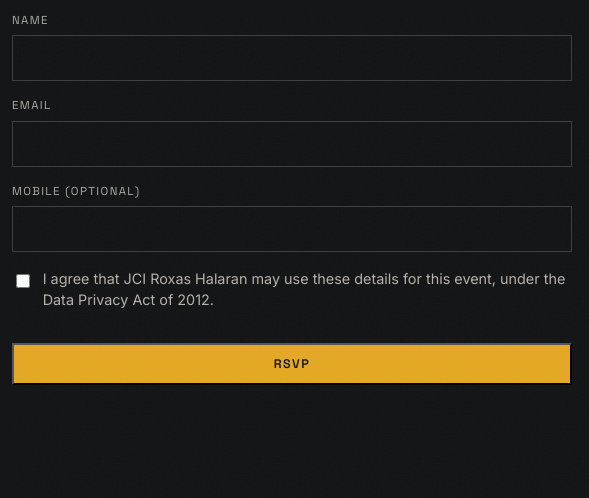
Test case: forms with Turnstile on › get a fresh token after a failed submit so the retry can pass
In the field labelled "Name": (292, 58) [12,35,572,81], type "Ana Cruz"
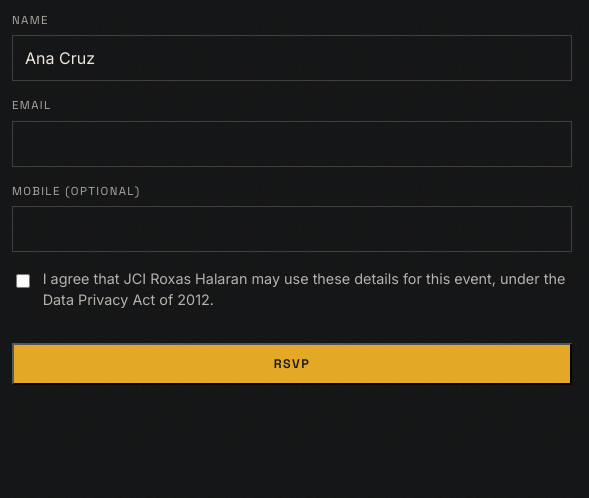
In the field labelled "Email": (292, 144) [12,120,572,166], type "a@x.ph"
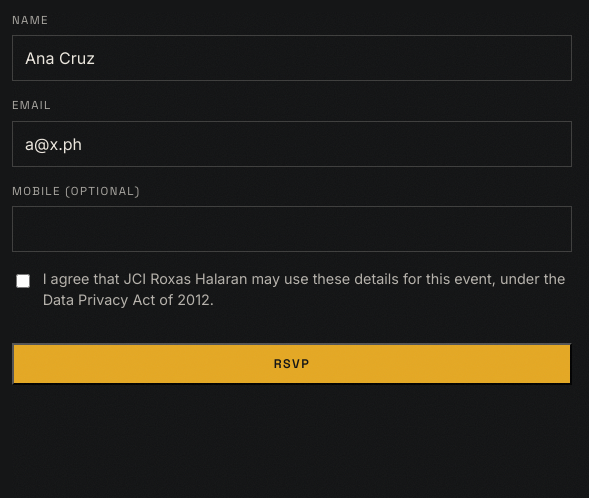
Click the checkbox: (23, 281) [16,272,30,290]
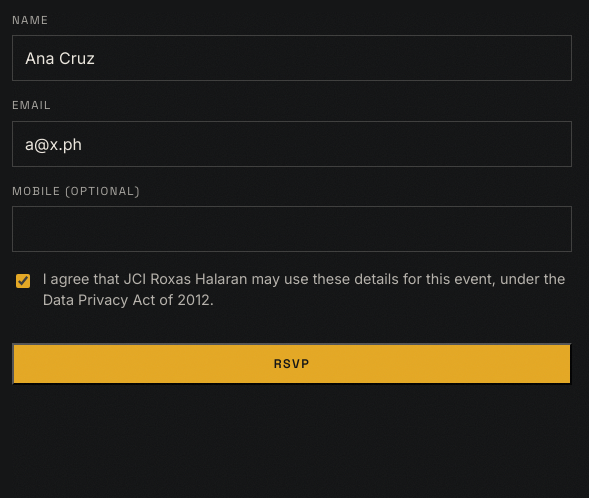
Click the button "RSVP": (292, 364) [12,343,572,385]
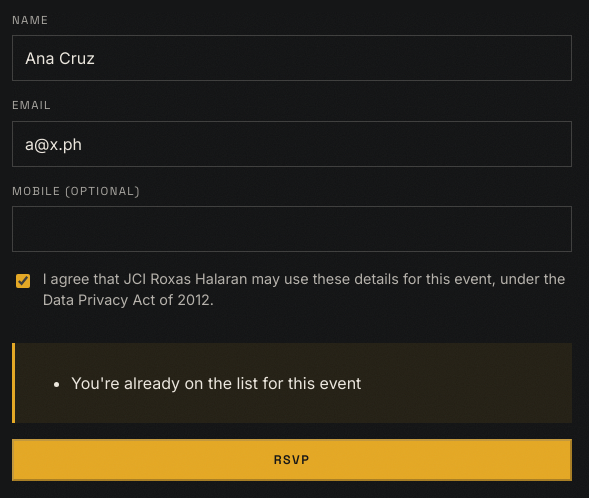
Now the message "You're already on the list for this event" is shown, box [12,343,572,423]
